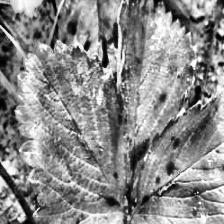Leaf Spot: (13, 38, 130, 224), (116, 0, 195, 178), (129, 89, 224, 224)
